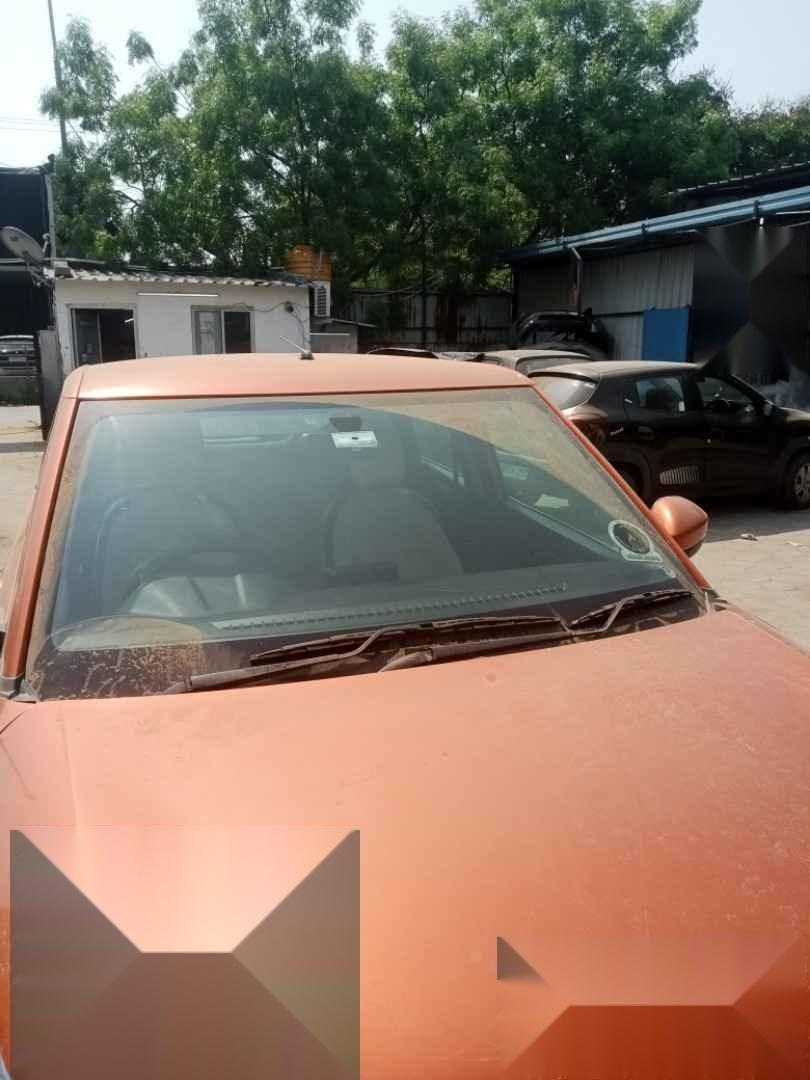FastTag: (307, 420, 401, 464)
not a FastTag: (609, 509, 671, 576)
